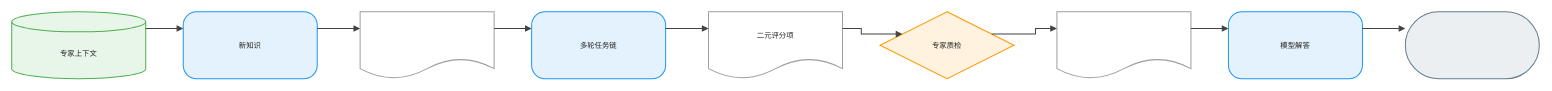
The diagram is 1552 pixels wide and 91 high, and some of its shapes have lost their labels. Here are the shapes that lost their labels. From the top down, the centre of each, then its label:
At (426,45): "上下文任务".
At (1123,45): "1,899个任务".
At (1472,45): "全部通过".
